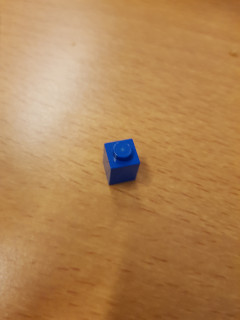1x1 blue: (99, 135, 143, 190)
